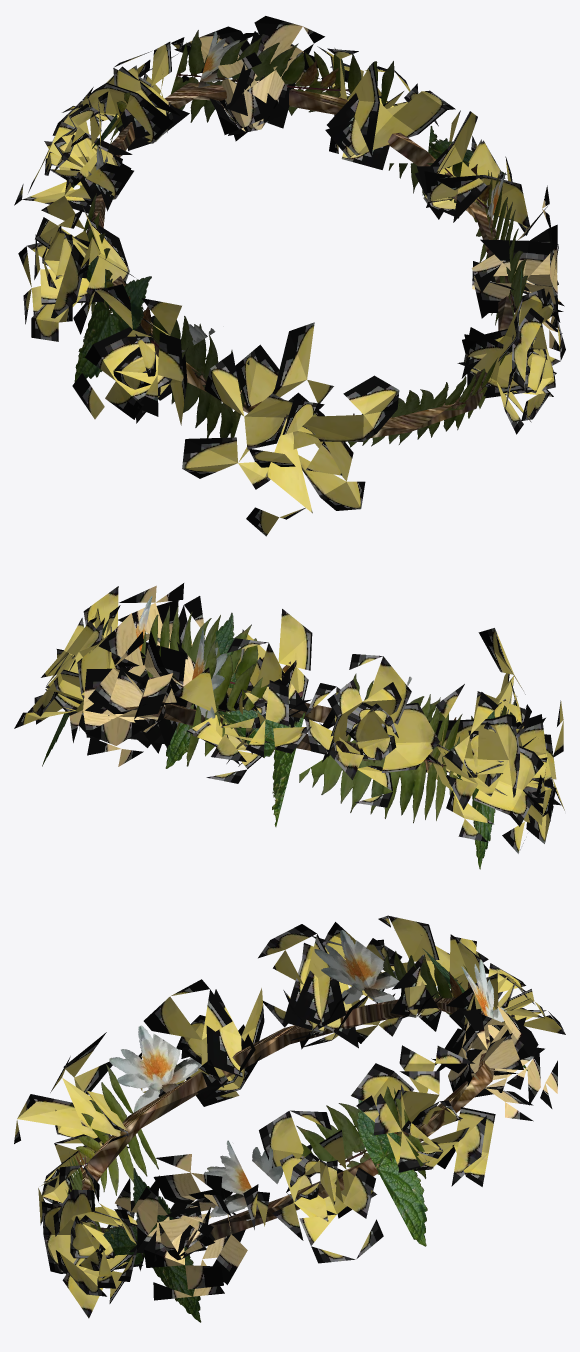
File: KOZA_WIANEK_YELLOW.glb
3 renders of one model, top to bottom at view 1: azimuth 30°, elevation 25°; view 2: azimuth 150°, elevation 25°; view 3: azimuth 270°, elevation 25°, orthographic. The views are drawn at different scales.
Parts seen in each view (by area): view 1: KOZA_WIANEK_YELLOW; view 2: KOZA_WIANEK_YELLOW; view 3: KOZA_WIANEK_YELLOW.
Part boxes in pixels (x1,y1,x2,y2): KOZA_WIANEK_YELLOW: (14, 16, 565, 536); KOZA_WIANEK_YELLOW: (14, 583, 564, 869); KOZA_WIANEK_YELLOW: (14, 915, 565, 1322).
Bounding box in the file's own units: 0.2648 × 0.1796 × 0.2691.
5 materials, 5 textured.
